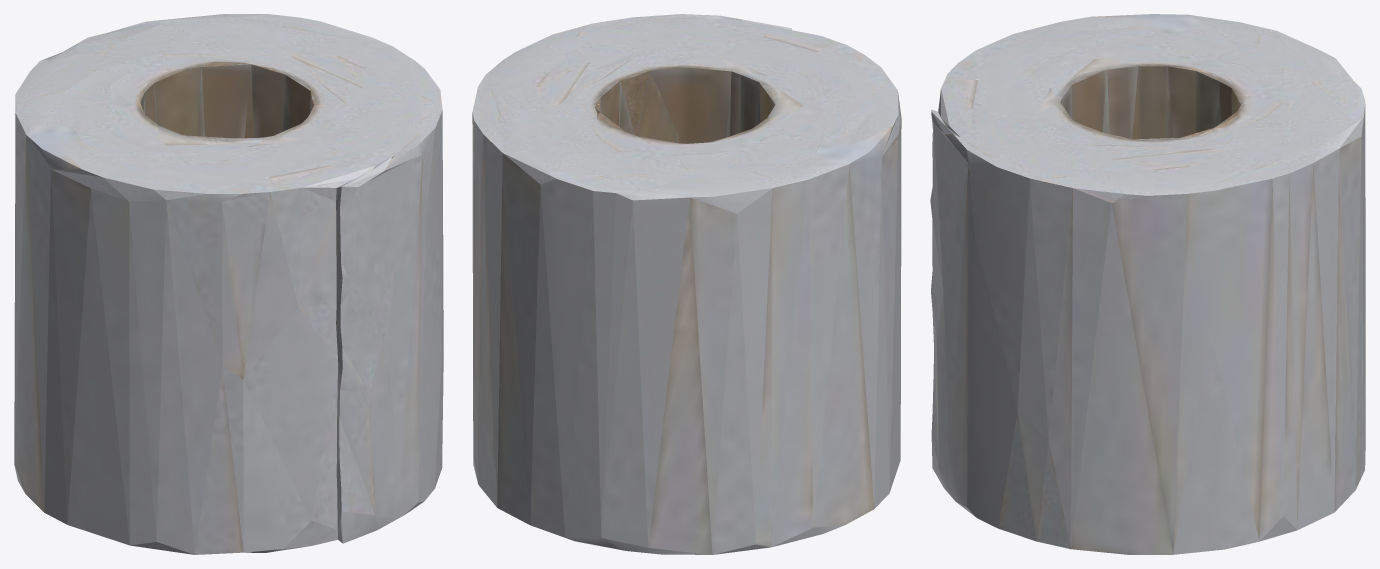
The model's file is w3tissue.glb.
The picture shows the model from 3 angles, left to right: view 1: azimuth 30°, elevation 25°; view 2: azimuth 150°, elevation 25°; view 3: azimuth 270°, elevation 25°; orthographic projection.
Parts seen in each view (by area): view 1: output_unwrapped; view 2: output_unwrapped; view 3: output_unwrapped.
Part boxes in pixels (<box>): output_unwrapped: <box>14,14,443,554</box>; output_unwrapped: <box>472,14,901,554</box>; output_unwrapped: <box>930,14,1365,554</box>.
Size of the model in its own units: 0.1171 by 0.11 by 0.1185.
1 material, 1 textured.
